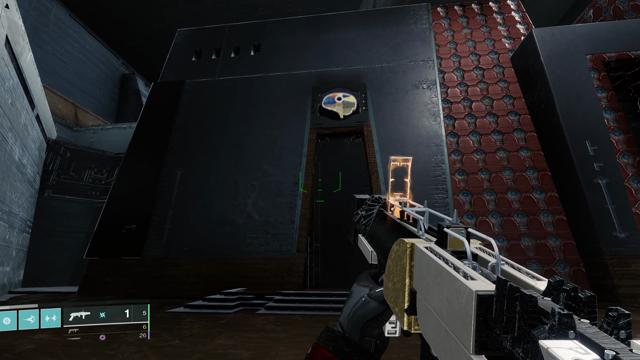brain: (319, 87, 361, 122)
